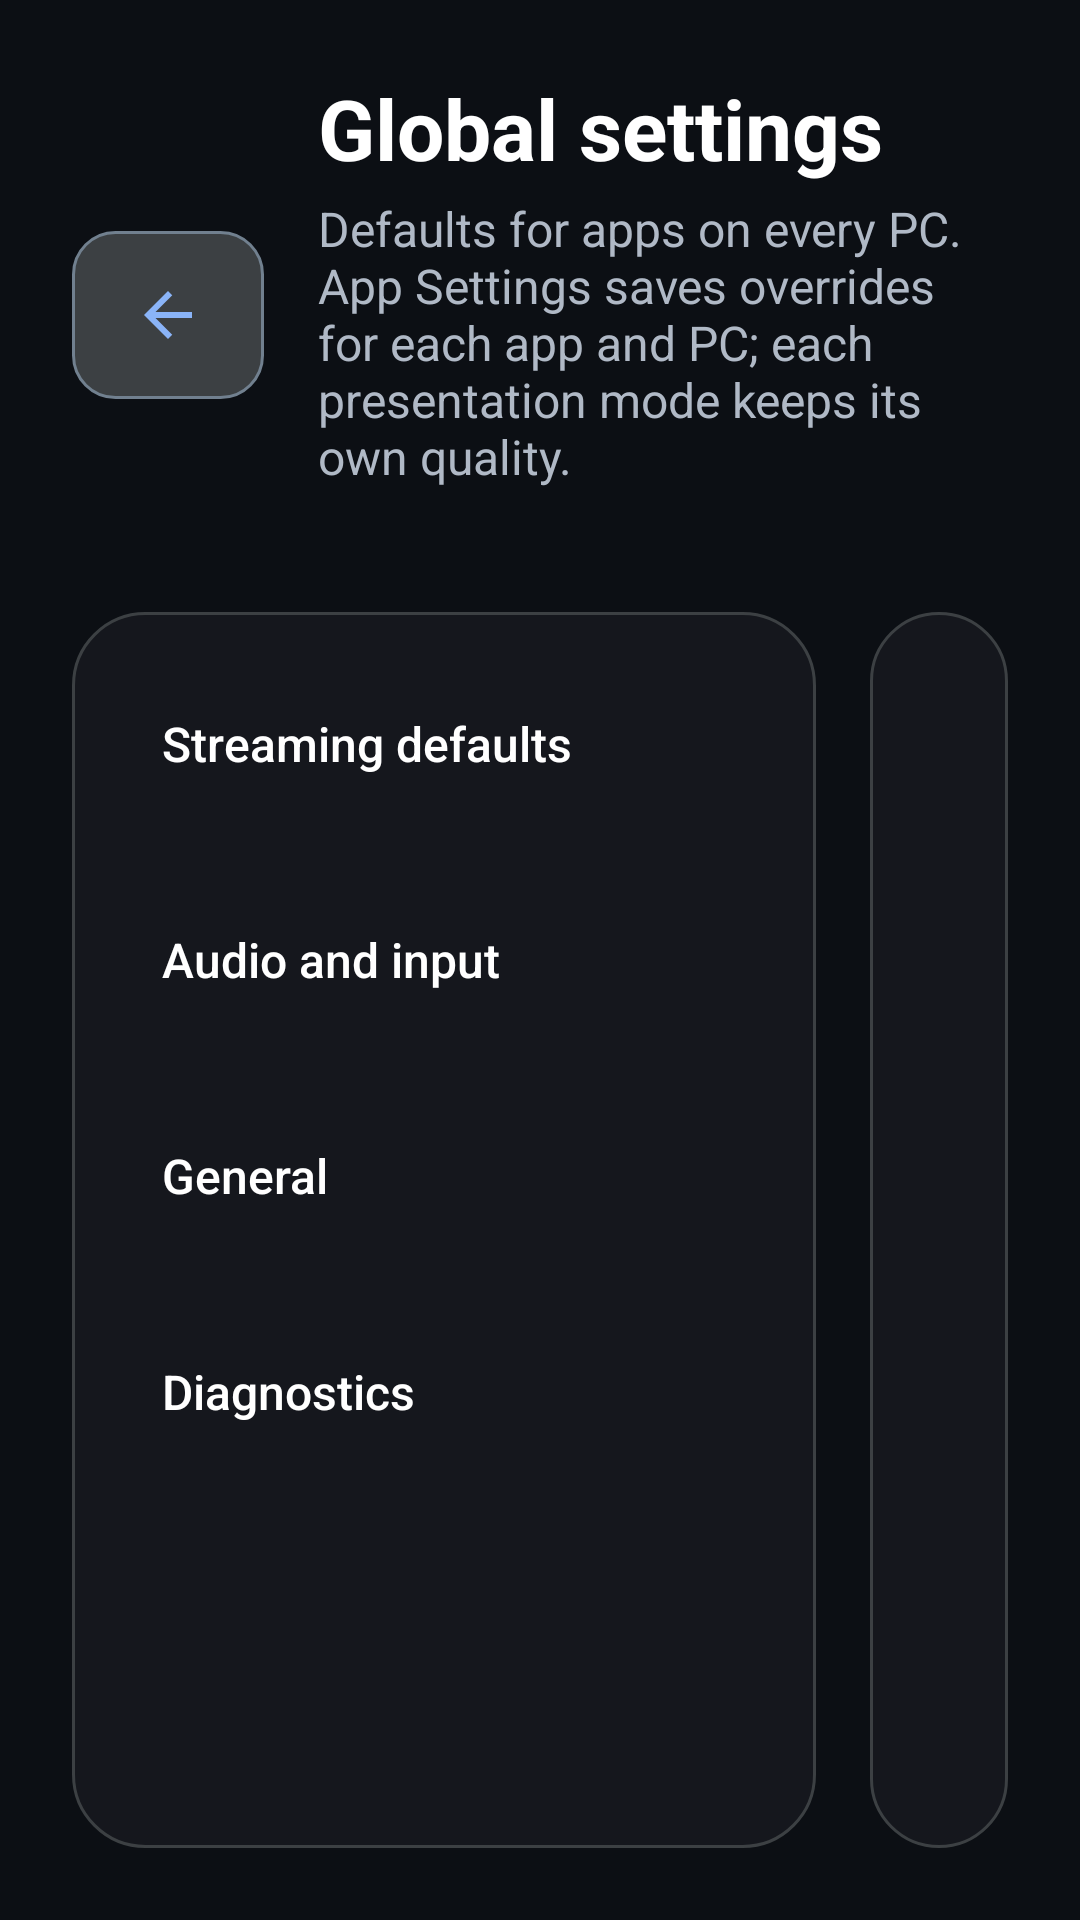

Named icons in this screenshot (1080×1920) and their bounding boxes, (x1, y1, x2, y2):
Back: (72, 231, 264, 399)
